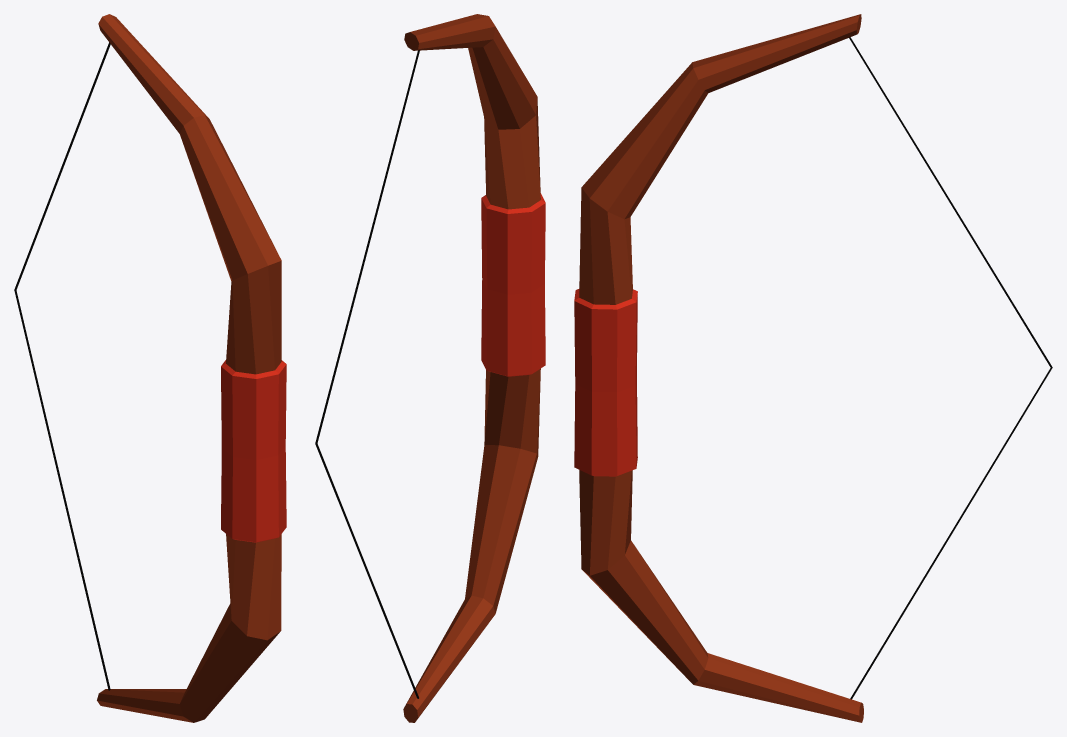
Rendered from bow.fbx.
3 views of the same model, side by side, from view 1: azimuth 30°, elevation 25°; view 2: azimuth 150°, elevation 25°; view 3: azimuth 270°, elevation 25° (orthographic). The views are drawn at different scales.
Parts seen in each view (by area): view 1: Bow; view 2: Bow; view 3: Bow.
Boxes of the visible parts, left/top/right/bottom form: Bow: left=14, top=14, right=286, bottom=722; Bow: left=315, top=14, right=545, bottom=722; Bow: left=574, top=14, right=1052, bottom=722.
Bounding box in the file's own units: 8.05 × 91.82 × 56.26.
